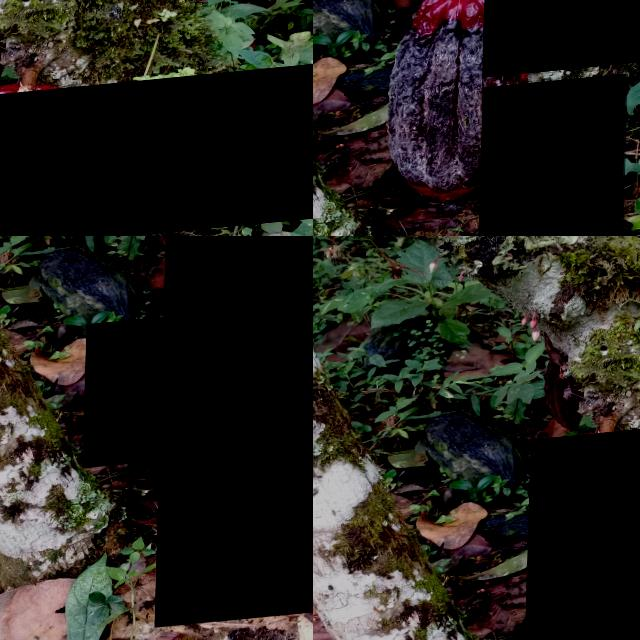Fitoftora: (527, 435, 640, 640), (478, 83, 629, 236)
Monilia: (158, 236, 313, 633), (0, 75, 313, 236), (484, 0, 640, 84)
Sana: (85, 322, 174, 472)
